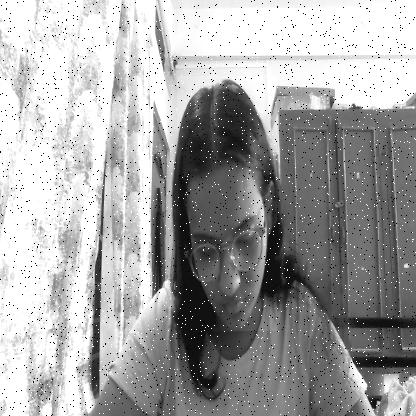Normal: (177, 76, 277, 331)
